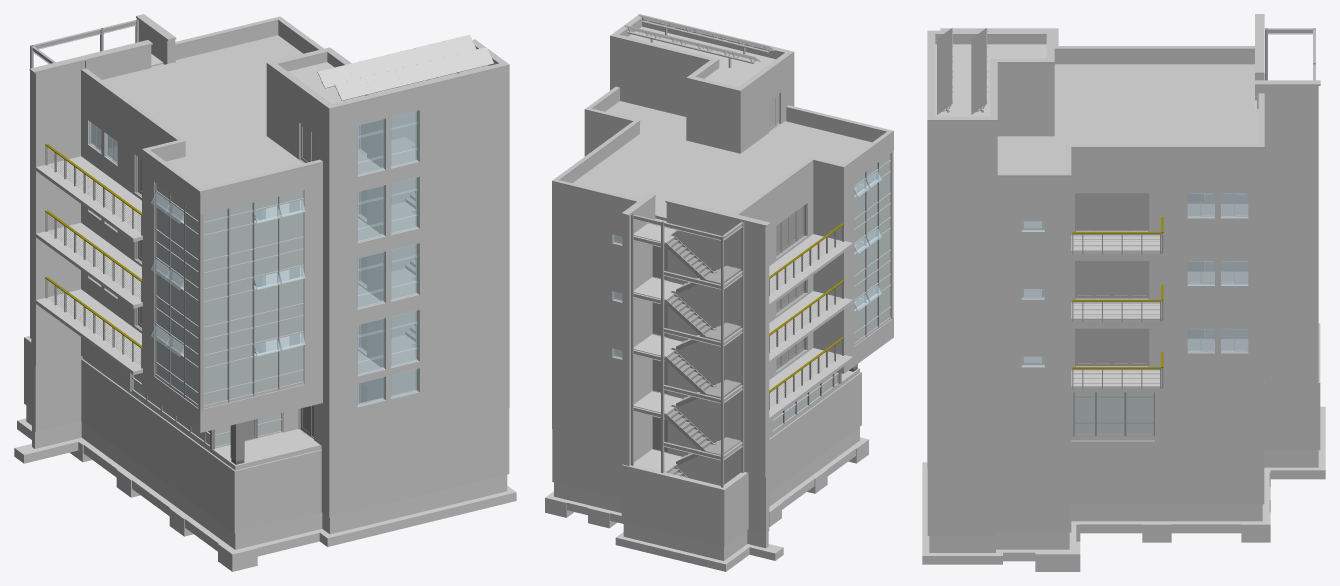
3 views of the same model, side by side, from view 1: azimuth 30°, elevation 25°; view 2: azimuth 150°, elevation 25°; view 3: azimuth 270°, elevation 25° (orthographic). The views are drawn at different scales.
Parts seen in each view (by area): view 1: 1Wz6OBb8v3zxIqKXFcScod, 0nAIxYTU95phgCVLRkjKIV, 1aSS_MFH57XhMn$sHdjopq, 1DVogryt976PRMMUZGZxkI, 2NmuolN39EiBJ$Vud_J$yQ, 0zIj277ez9Hx0Lcbxj$Utx, 0y0y5_XtL199$znVnnBTox, 3iMUb_Jz518PZPqx7lvIZt, 1fslZa5Lf3e9sVG67U3NIw, 3qxUs6YvH3TwzKUT1tAPaT, 0SfUs9CTjATQRgx8uMELQT, 3jsaX9kO55We34poMmzO6v (+56 smaller); view 2: 1Wz6OBb8v3zxIqKXFcScod, 0ijvQes451o8Ff_K6GxhX$, 1DVogryt976PRMMUZGZxkI, 12esFvSqj2SRwv9E$m1d6h, 2w6i5zN29DFQpd1A_XLAbI, 1YcfMT4lz4H9jxcFD5kG1W, 003se4MKX9OAsciTbqvro$, 3PEm2kfeLDCPvaZ8OdFKXO, 1U_bvFzDD5$QN$vG5r20Hk, 0Fv9MoXFb6FhYfHqcG6qJq, 2u8xUTR2TCVe3KkjaTn2tI, 3jsaX9kO55We34poMmzO6v (+67 smaller); view 3: 1Wz6OBb8v3zxIqKXFcScod, 0I8nQNkZf5wu1o$3ndSZ2t, 1UqKeeSub3Zfqp4YsScr2a, 2V$tULlvXAcP5tMwnNfH58, 0ZEqxSF090HhTttEVTZu0V, 0pF2HxsEH1pBKEVC7jb4xt, 3TNK0MCjb62wJTTLQEyKSb, 0WZCgf3ljFmOwp15YOoTrM, 2aV8Sg1evEzeblQXYXPWS$, 3g98O65O9CYxyAzI6u8jrN, 1YIRQXlG9AXvZ1w7pqNJSF, 0FxWCeuwzALBlwY7jk2t1z (+60 smaller).
Part boxes in pixels (left/top/right/bottom): 1Wz6OBb8v3zxIqKXFcScod: left=102, top=35, right=303, bottom=188; 0nAIxYTU95phgCVLRkjKIV: left=329, top=407, right=509, bottom=517; 1aSS_MFH57XhMn$sHdjopq: left=329, top=341, right=509, bottom=451; 1DVogryt976PRMMUZGZxkI: left=81, top=359, right=234, bottom=532; 2NmuolN39EiBJ$Vud_J$yQ: left=329, top=141, right=509, bottom=251; 0zIj277ez9Hx0Lcbxj$Utx: left=329, top=274, right=509, bottom=384; 0y0y5_XtL199$znVnnBTox: left=329, top=208, right=509, bottom=318; 3iMUb_Jz518PZPqx7lvIZt: left=329, top=75, right=509, bottom=185; 1fslZa5Lf3e9sVG67U3NIw: left=234, top=449, right=321, bottom=533; 3qxUs6YvH3TwzKUT1tAPaT: left=35, top=156, right=142, bottom=241; 0SfUs9CTjATQRgx8uMELQT: left=35, top=289, right=142, bottom=374; 3jsaX9kO55We34poMmzO6v: left=35, top=223, right=142, bottom=308; 1Wz6OBb8v3zxIqKXFcScod: left=573, top=101, right=871, bottom=220; 0ijvQes451o8Ff_K6GxhX$: left=623, top=464, right=724, bottom=546; 1DVogryt976PRMMUZGZxkI: left=769, top=372, right=861, bottom=492; 12esFvSqj2SRwv9E$m1d6h: left=610, top=44, right=700, bottom=116; 2w6i5zN29DFQpd1A_XLAbI: left=552, top=372, right=622, bottom=445; 1YcfMT4lz4H9jxcFD5kG1W: left=552, top=315, right=622, bottom=388; 003se4MKX9OAsciTbqvro$: left=552, top=258, right=622, bottom=331; 3PEm2kfeLDCPvaZ8OdFKXO: left=552, top=201, right=622, bottom=274; 1U_bvFzDD5$QN$vG5r20Hk: left=552, top=429, right=622, bottom=498; 0Fv9MoXFb6FhYfHqcG6qJq: left=686, top=86, right=740, bottom=153; 2u8xUTR2TCVe3KkjaTn2tI: left=740, top=61, right=794, bottom=153; 3jsaX9kO55We34poMmzO6v: left=768, top=291, right=852, bottom=363; 1Wz6OBb8v3zxIqKXFcScod: left=997, top=64, right=1258, bottom=172; 0I8nQNkZf5wu1o$3ndSZ2t: left=1071, top=440, right=1264, bottom=504; 1UqKeeSub3Zfqp4YsScr2a: left=1155, top=374, right=1264, bottom=441; 2V$tULlvXAcP5tMwnNfH58: left=1161, top=238, right=1264, bottom=306; 0ZEqxSF090HhTttEVTZu0V: left=1161, top=171, right=1264, bottom=238; 0pF2HxsEH1pBKEVC7jb4xt: left=1161, top=306, right=1264, bottom=373; 3TNK0MCjb62wJTTLQEyKSb: left=996, top=402, right=1071, bottom=469; 0WZCgf3ljFmOwp15YOoTrM: left=996, top=199, right=1071, bottom=266; 2aV8Sg1evEzeblQXYXPWS$: left=996, top=334, right=1071, bottom=401; 3g98O65O9CYxyAzI6u8jrN: left=996, top=267, right=1071, bottom=334; 1YIRQXlG9AXvZ1w7pqNJSF: left=996, top=469, right=1071, bottom=532; 0FxWCeuwzALBlwY7jk2t1z: left=927, top=130, right=997, bottom=197.
Bounding box in the file's own units: 19.8 × 26.54 × 20.55.
